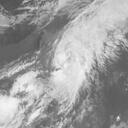cyclone: (44, 45, 91, 93)
